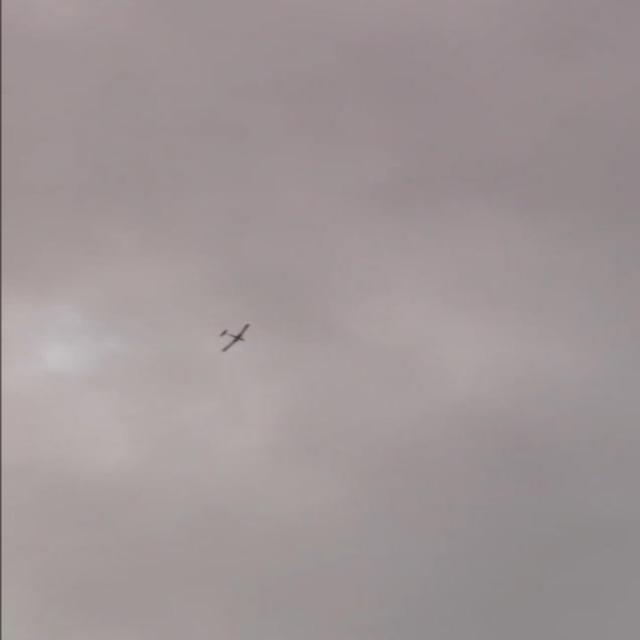plane: (217, 322, 250, 351)
